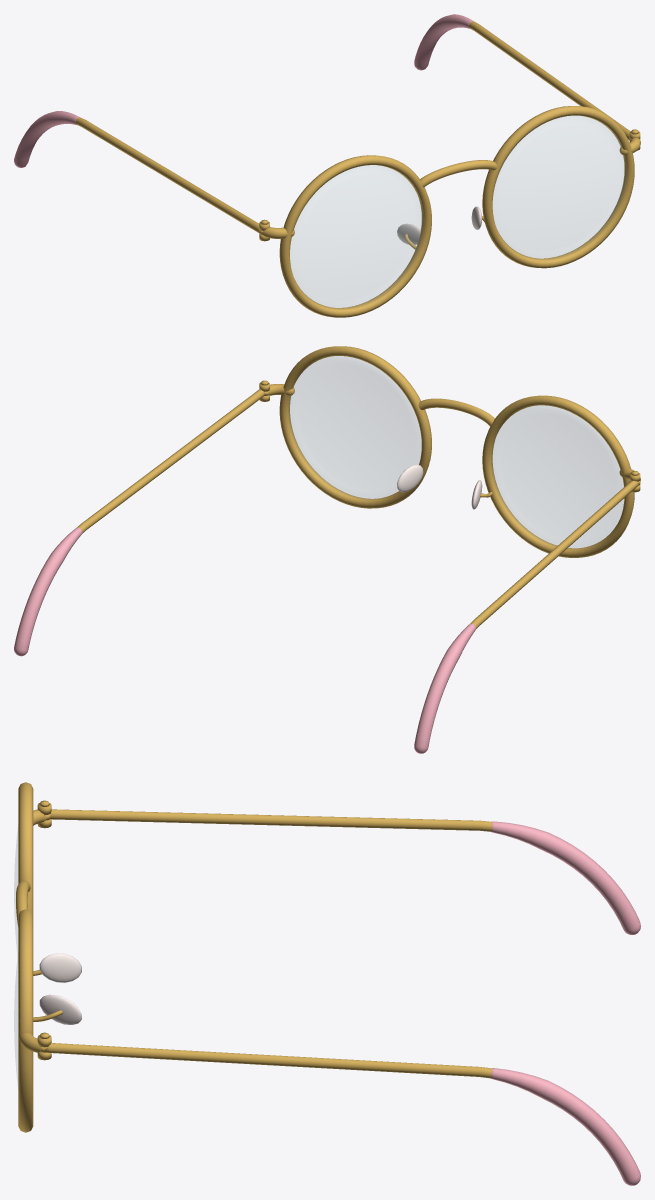
The model's file is grab3d-glasses.glb.
The picture shows the model from 3 angles, top to bottom: view 1: azimuth 30°, elevation 25°; view 2: azimuth 150°, elevation 25°; view 3: azimuth 270°, elevation 25°; orthographic projection. The views are drawn at different scales.
Parts seen in each view (by area): view 1: glasses_lens_l, glasses_lens_r, glasses_body, glasses_temple_l, glasses_temple_r; view 2: glasses_lens_r, glasses_lens_l, glasses_body, glasses_temple_r, glasses_temple_l; view 3: glasses_body, glasses_temple_r, glasses_temple_l.
Boxes of the visible parts, x1,y1,x2,y2 form: glasses_lens_l: [290, 165, 423, 309]; glasses_lens_r: [493, 116, 626, 259]; glasses_body: [259, 106, 640, 317]; glasses_temple_l: [14, 111, 263, 234]; glasses_temple_r: [414, 14, 640, 140]; glasses_lens_r: [288, 356, 421, 499]; glasses_lens_l: [491, 405, 623, 548]; glasses_body: [259, 346, 640, 557]; glasses_temple_r: [14, 389, 268, 656]; glasses_temple_l: [414, 480, 640, 753]; glasses_body: [16, 782, 81, 1132]; glasses_temple_r: [40, 1043, 640, 1185]; glasses_temple_l: [45, 809, 640, 934].
Bounding box in the file's own units: 0.1365 × 0.0501 × 0.1398.
Materials: 5 (3 with a texture image).
